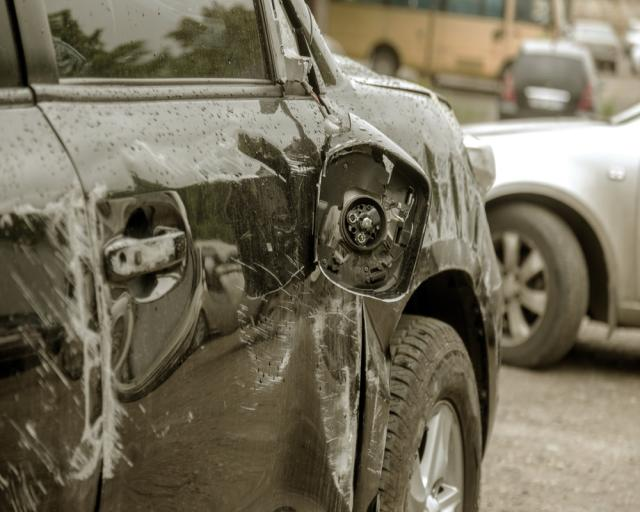dent: (199, 130, 302, 390), (119, 255, 200, 386)
scratch: (0, 183, 102, 512), (85, 182, 128, 481), (311, 296, 360, 512), (364, 329, 389, 474), (111, 235, 181, 271)
